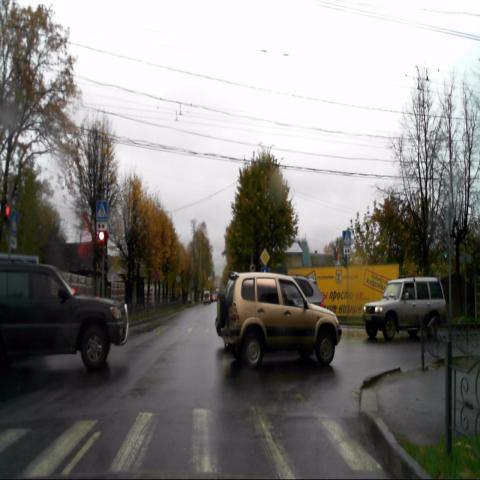2_1: (260, 247, 270, 265)
5_19_1: (96, 200, 107, 220), (342, 230, 351, 245)
